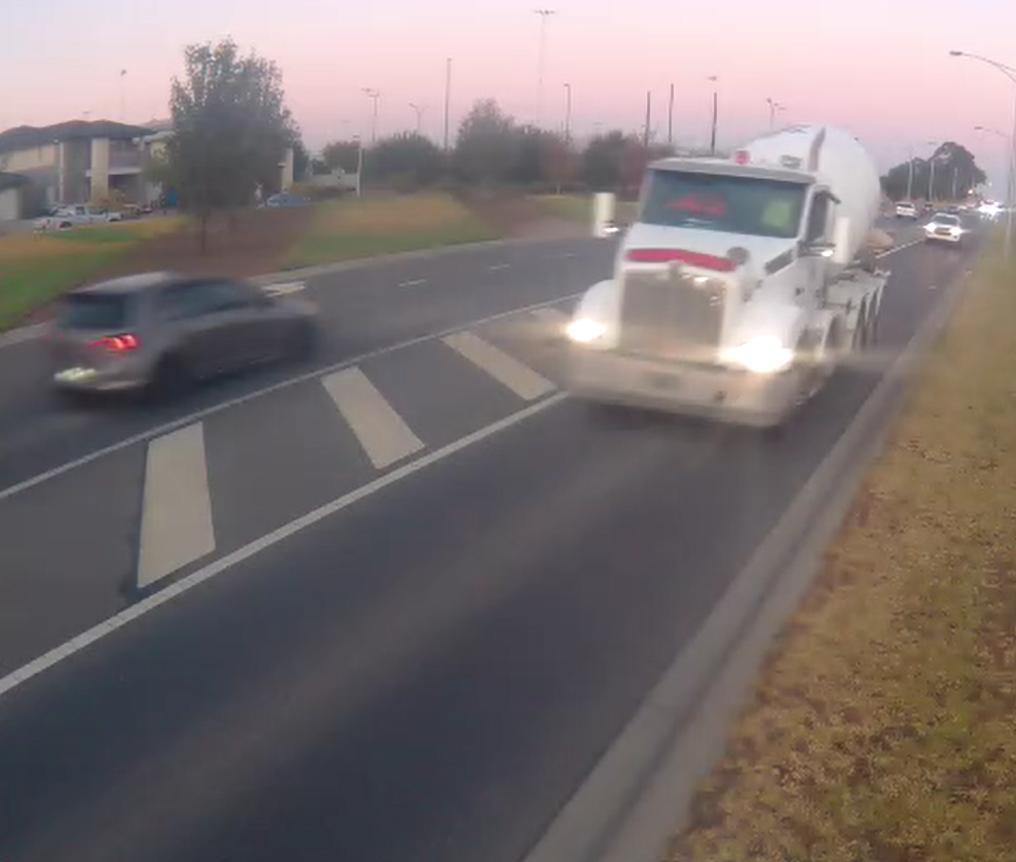vehicle type 1: (559, 118, 894, 435), (52, 280, 331, 407)
